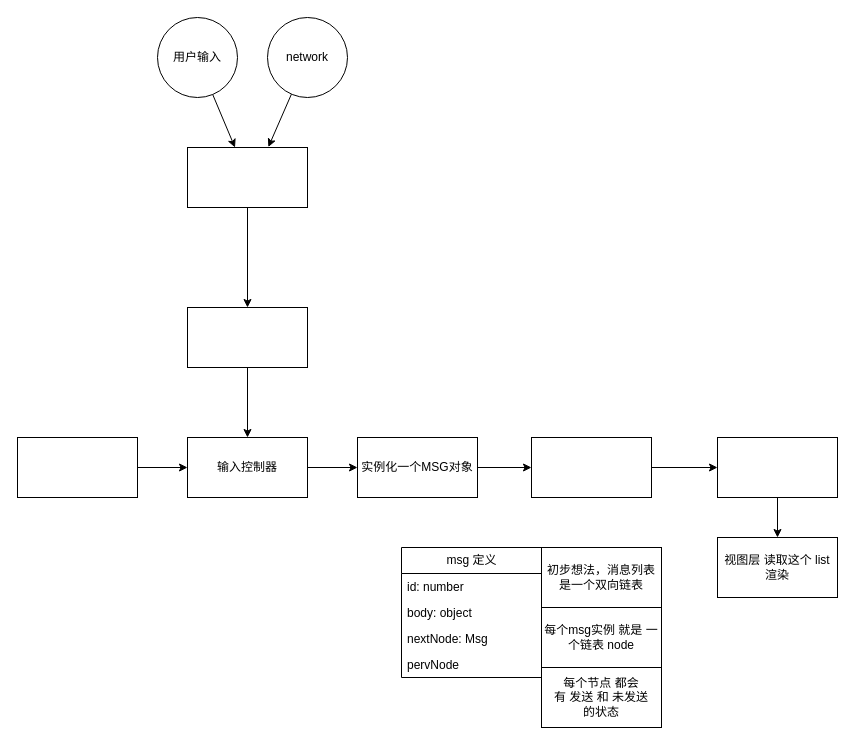
The diagram is 855 pixels wide and 745 high, and some of its shapes have lost their labels. Each missing label, with the centre of its shape:
"定义消息类型 定义消息类型校验" goes at [247,337].
"添加到 message list controller 中" goes at [591,467].
"聊天窗口 chat window" goes at [77,467].
"输入来源" goes at [247,177].
"返回一个 msg list" goes at [777,467].
